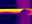Hotspot: (0, 9, 23, 13)
